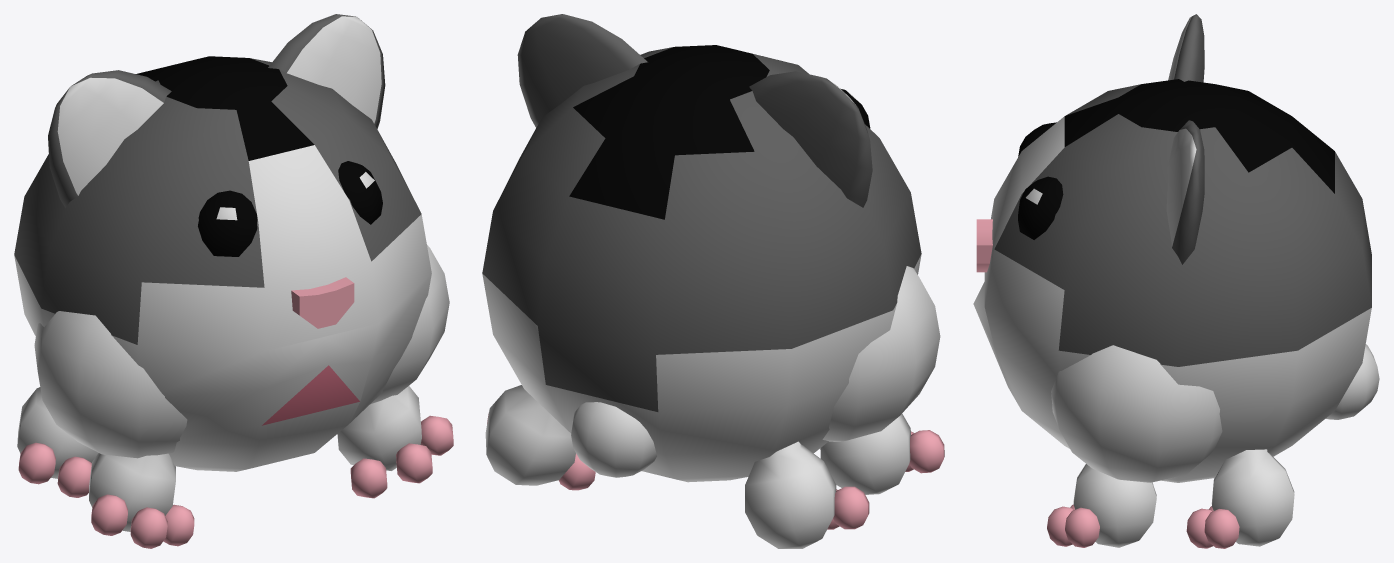
Rendered from Hamster.fbx.
The picture shows the model from 3 angles, left to right: view 1: azimuth 30°, elevation 25°; view 2: azimuth 150°, elevation 25°; view 3: azimuth 270°, elevation 25°; orthographic projection. The views are drawn at different scales.
Parts seen in each view (by area): view 1: Hamster; view 2: Hamster; view 3: Hamster.
Part boxes in pixels (x1,y1,x2,y2): Hamster: [14, 14, 453, 548]; Hamster: [482, 14, 944, 548]; Hamster: [973, 14, 1379, 548].
Bounding box in the file's own units: 21.39 × 22.85 × 19.96.
